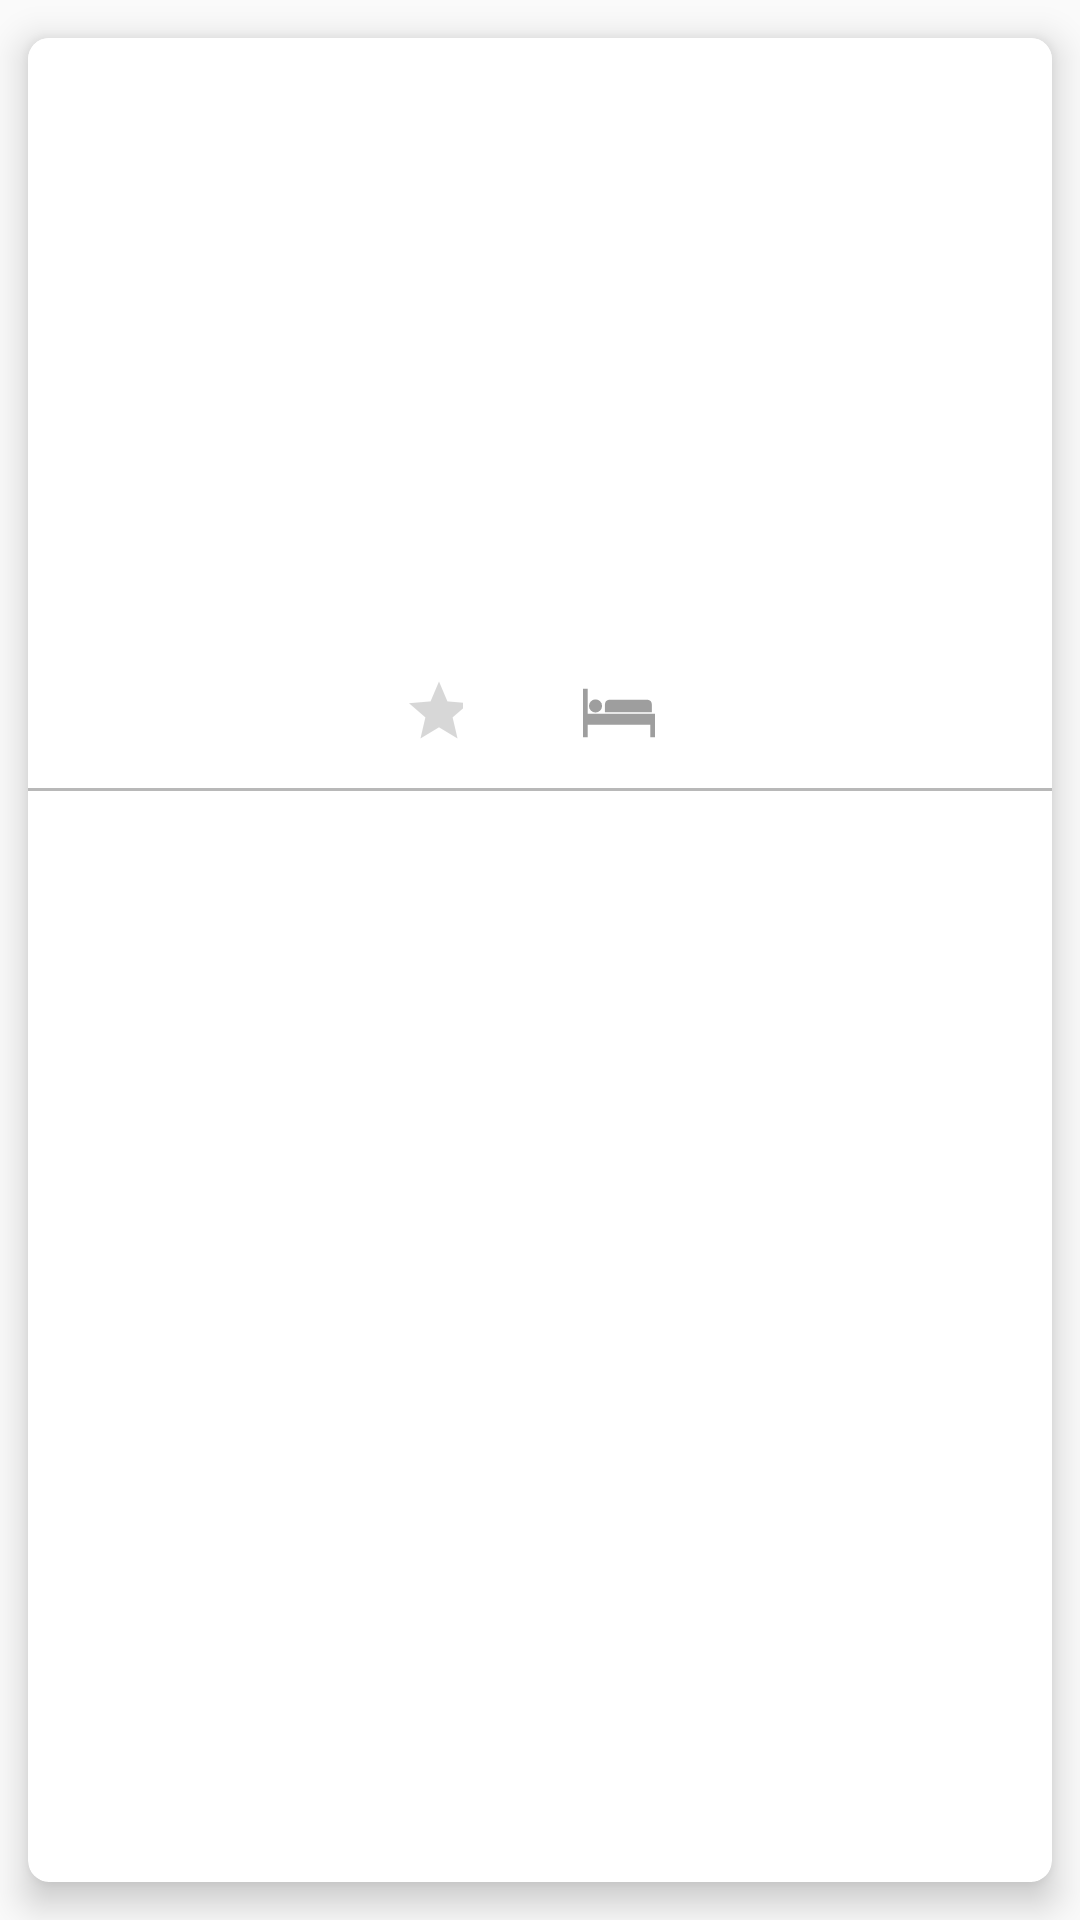

Named icons in this screenshot (1080px x 1920px) and their bounding boxes, (x1, y1, x2, y2):
bed: (583, 689, 655, 737)
